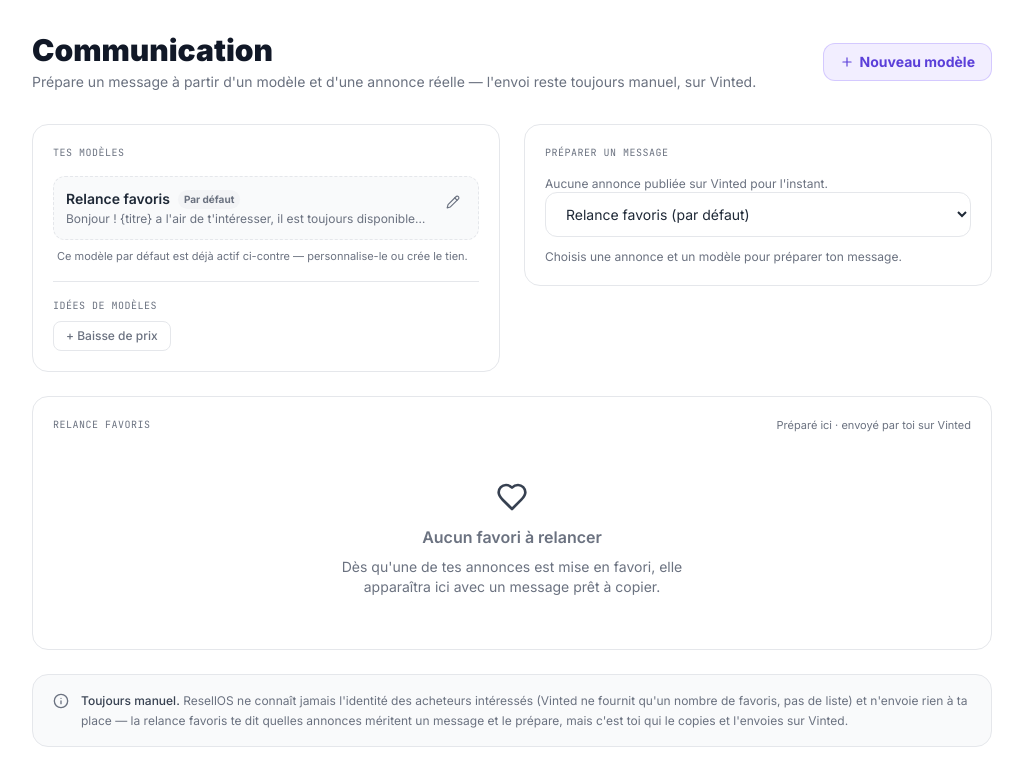
Test case: CommunicationPage -- modèle par défaut (aucun modèle personnel) › "Personnaliser" ouvre le formulaire pré-rempli avec le contenu du modèle par défaut
The width and height of the screenshot is (1024, 768).
Expected: the text "Tes modèles" is shown, [53, 146, 124, 159]
Click the button named "Personnaliser" at (453, 202), box [440, 189, 466, 215]
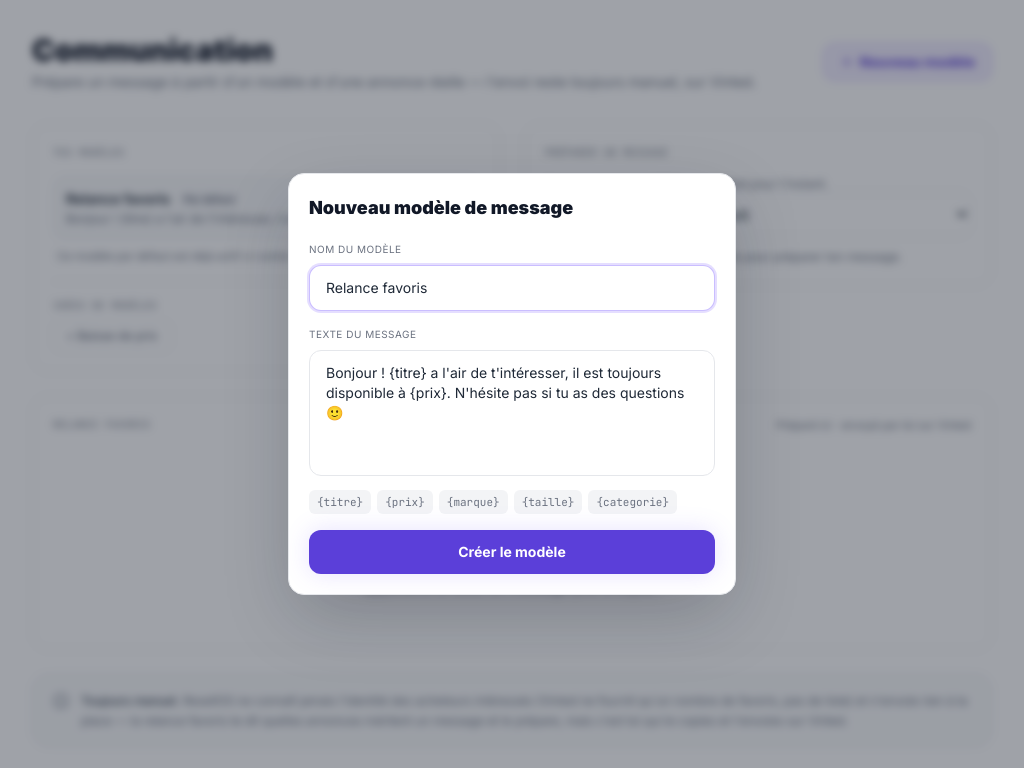
Now the field showing "Relance favoris" is shown, box [309, 265, 715, 311]
Now the heading "Nouveau modèle de message" is shown, box [309, 197, 573, 218]
